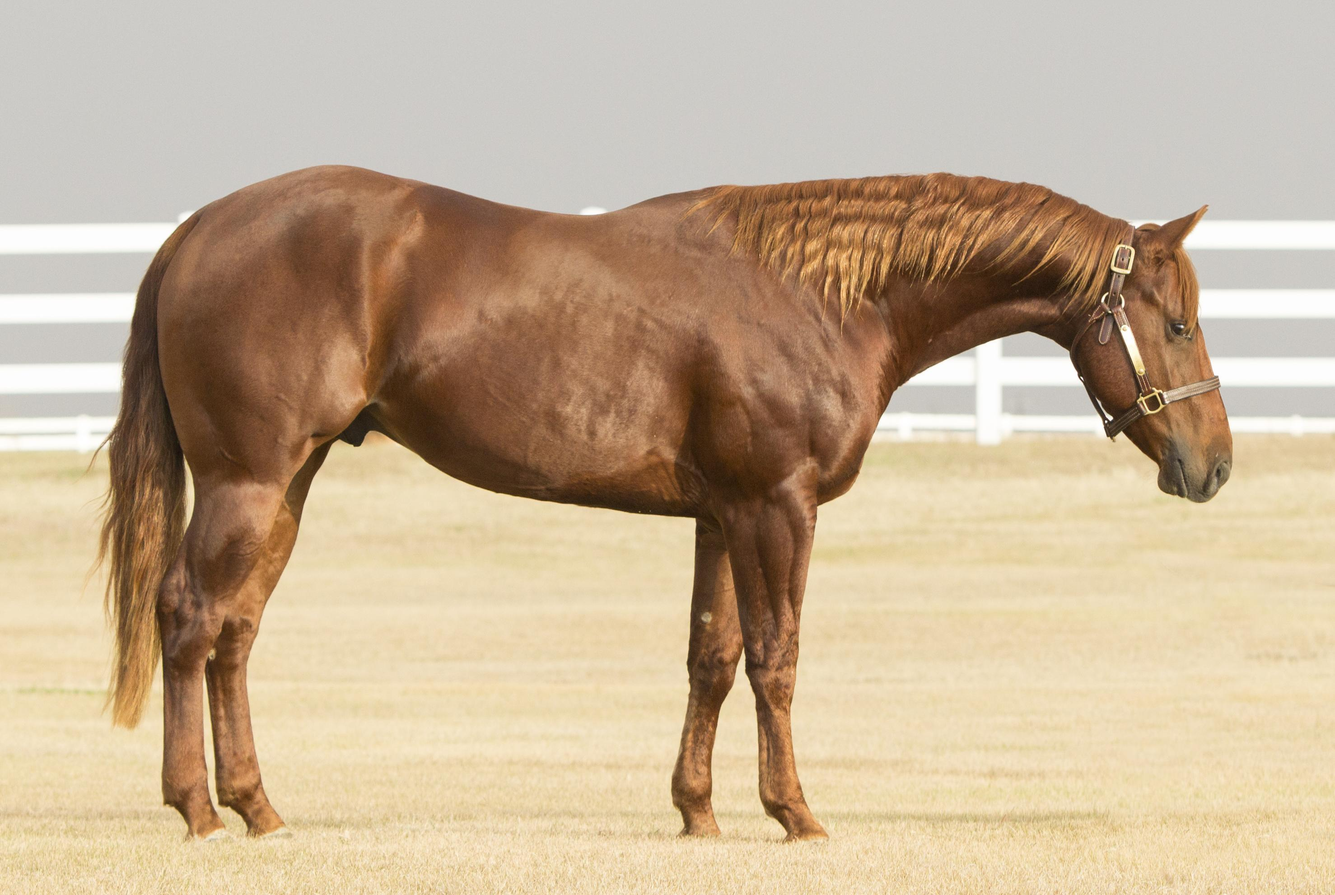horse: (77, 151, 1242, 860)
